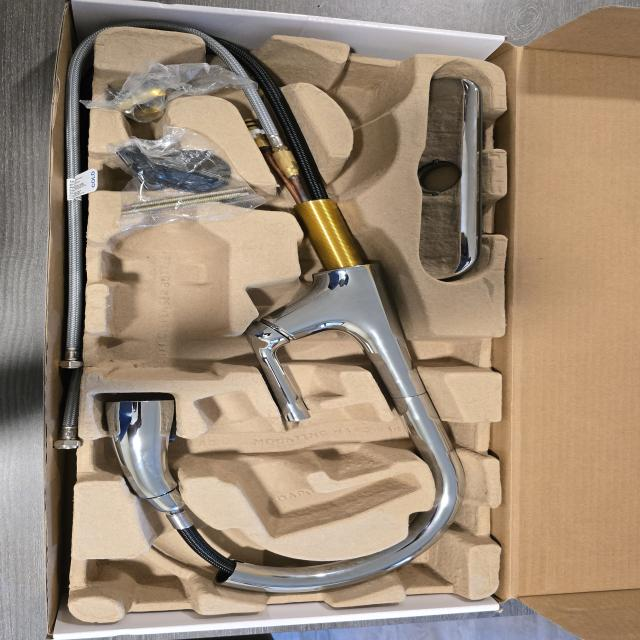1: (101, 35, 466, 595)
2m: (193, 391, 420, 536)
3m: (106, 199, 226, 382)
4: (417, 74, 480, 281)
5m: (327, 67, 407, 121)
6: (81, 60, 263, 125)
7: (109, 125, 272, 228)
